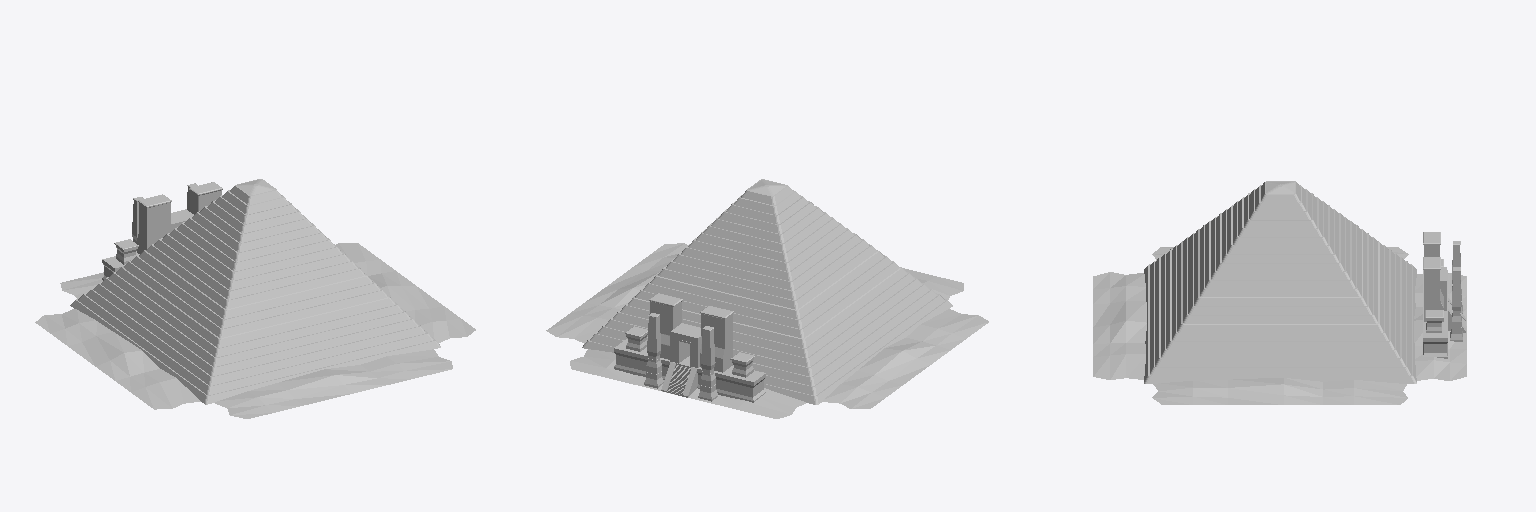
The model's file is pyramids.obj.
3 views of the same model, side by side, from view 1: azimuth 30°, elevation 25°; view 2: azimuth 150°, elevation 25°; view 3: azimuth 270°, elevation 25° (orthographic).
Visible parts, largest first — view 1: pCube12, polySurface9; view 2: pCube12, polySurface9; view 3: pCube12, polySurface9.
Part boxes in pixels (x1,y1,x2,y2): pCube12: (35,179,475,418); polySurface9: (102,182,222,280); pCube12: (546,179,988,418); polySurface9: (614,293,765,402); pCube12: (1093,181,1466,404); polySurface9: (1423,232,1465,358).
Size of the model in its own units: 14.98 by 6.24 by 14.97.